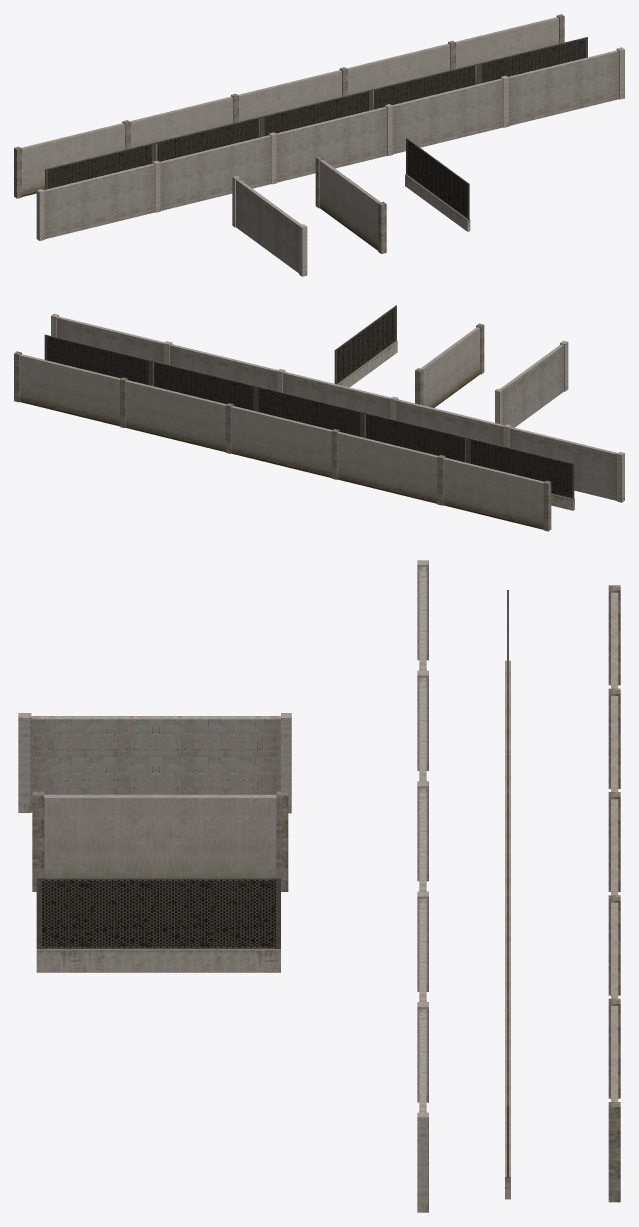
File: RoadSideWall.fbx
The picture shows the model from 3 angles, top to bottom: view 1: azimuth 30°, elevation 25°; view 2: azimuth 150°, elevation 25°; view 3: azimuth 270°, elevation 25°; orthographic projection. The views are drawn at different scales.
Visible parts, largest first — view 1: RoadSideWall_4, RoadSideWall_3, RoadSideWall_5, RoadSideWall_1, RoadSideWall_, RoadSideWall_2; view 2: RoadSideWall_3, RoadSideWall_5, RoadSideWall_4, RoadSideWall_1, RoadSideWall_, RoadSideWall_2; view 3: RoadSideWall_2, RoadSideWall_1, RoadSideWall_, RoadSideWall_3, RoadSideWall_4, RoadSideWall_5.
Part boxes in pixels (bbox=[...]): RoadSideWall_4: bbox=[36, 47, 624, 240]; RoadSideWall_3: bbox=[14, 14, 564, 198]; RoadSideWall_5: bbox=[45, 37, 587, 189]; RoadSideWall_1: bbox=[232, 175, 307, 276]; RoadSideWall_: bbox=[315, 156, 386, 253]; RoadSideWall_2: bbox=[405, 138, 470, 231]; RoadSideWall_3: bbox=[14, 351, 551, 531]; RoadSideWall_5: bbox=[44, 334, 574, 510]; RoadSideWall_4: bbox=[51, 313, 624, 502]; RoadSideWall_1: bbox=[495, 340, 568, 427]; RoadSideWall_: bbox=[415, 323, 484, 407]; RoadSideWall_2: bbox=[334, 305, 397, 387]; RoadSideWall_2: bbox=[36, 878, 280, 972]; RoadSideWall_1: bbox=[18, 713, 291, 813]; RoadSideWall_: bbox=[32, 791, 288, 891]; RoadSideWall_3: bbox=[608, 585, 620, 1202]; RoadSideWall_4: bbox=[417, 560, 428, 1212]; RoadSideWall_5: bbox=[505, 590, 510, 1199].
Bounding box in the file's own units: 30.57 × 2.44 × 13.96.
Materials: 2 (2 with a texture image).
